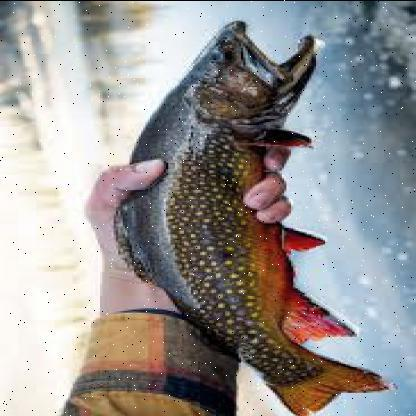fish: (110, 22, 394, 415)
